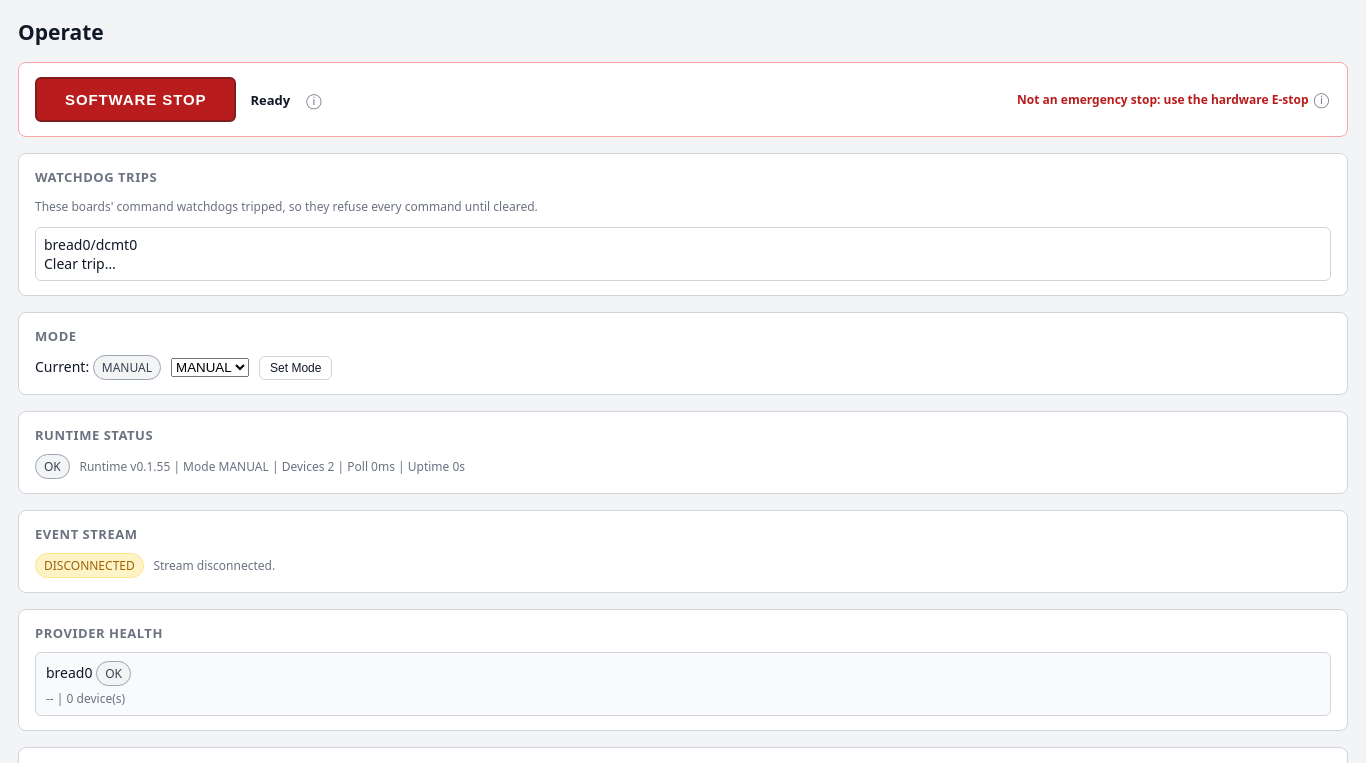
Scenario: Operate.svelte — a guided clear for watchdog-tripped boards (wb#572) › shows a refused clear and leaves the step to retry
What coordinates should you click on to do the following:
click the button with aria-label "Clear the watchdog trip on bread0/dcmt0…"
I would click on:
 (80, 264)
Its box is [44,254,1322,273].
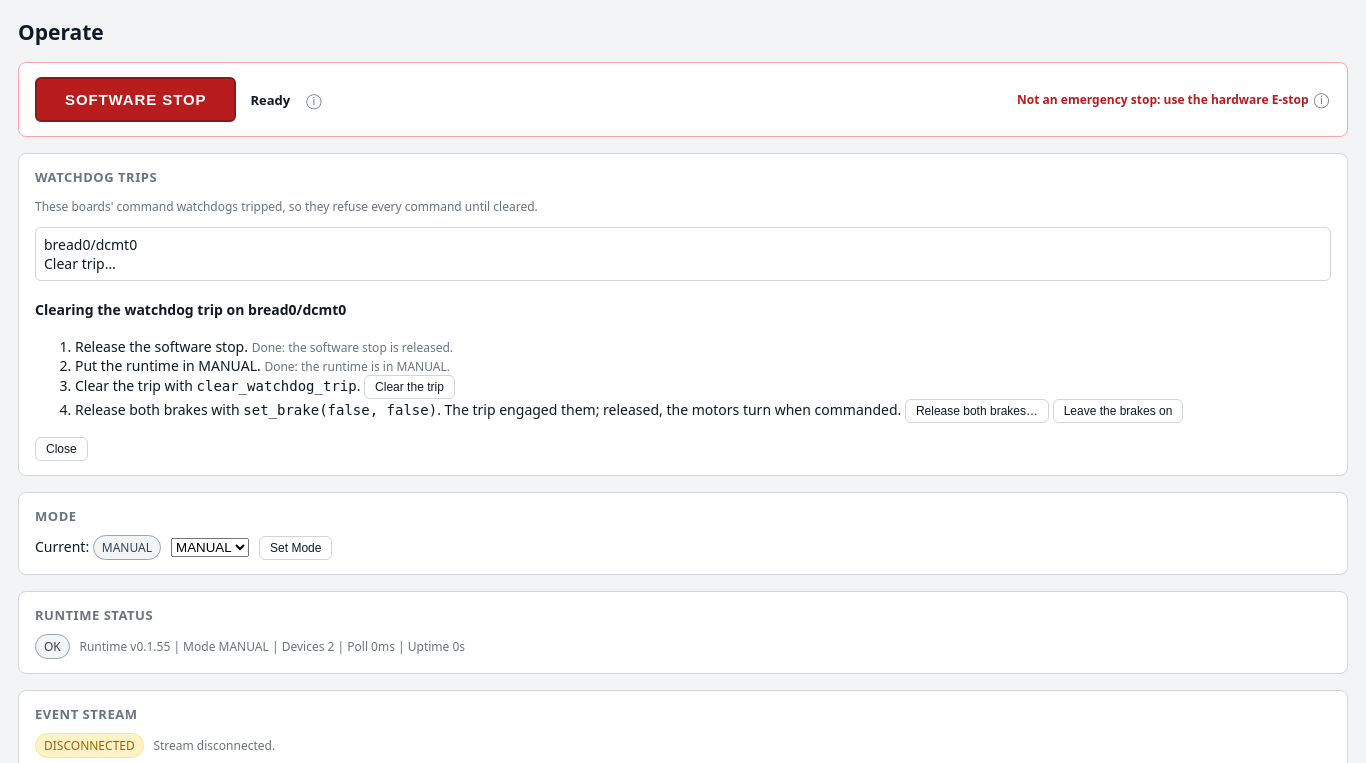
Result: the button "Clear the trip" is enabled
What coordinates should you click on to do the following:
click the button "Clear the trip"
I would click on:
 (409, 387)
Its box is [364,375,455,399].
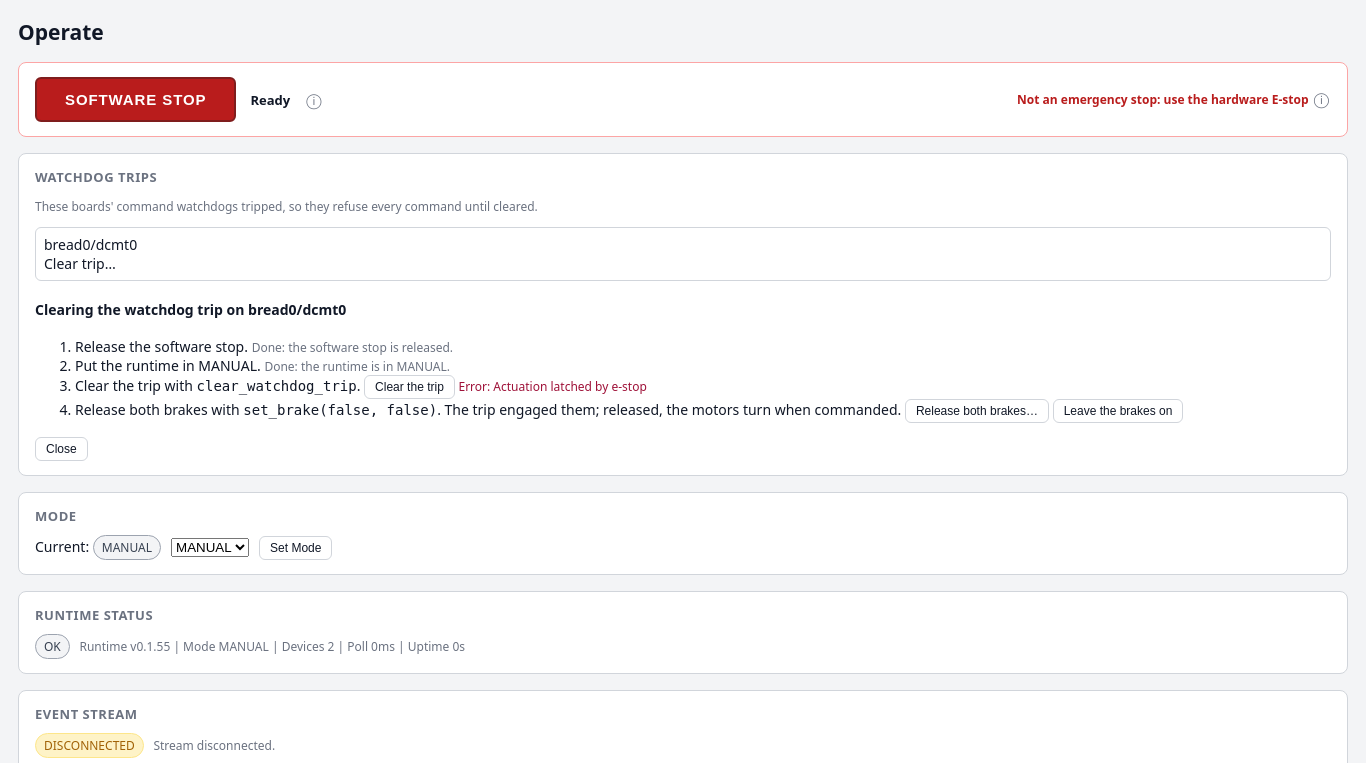
Result: the button "Clear the trip" is enabled at [364,375,455,399]
Result: the list item with test id "trip-step-4" is shown at [75,399,1331,423]
Result: the text "Error: Actuation latched by e-stop" is shown at [458,378,647,395]
